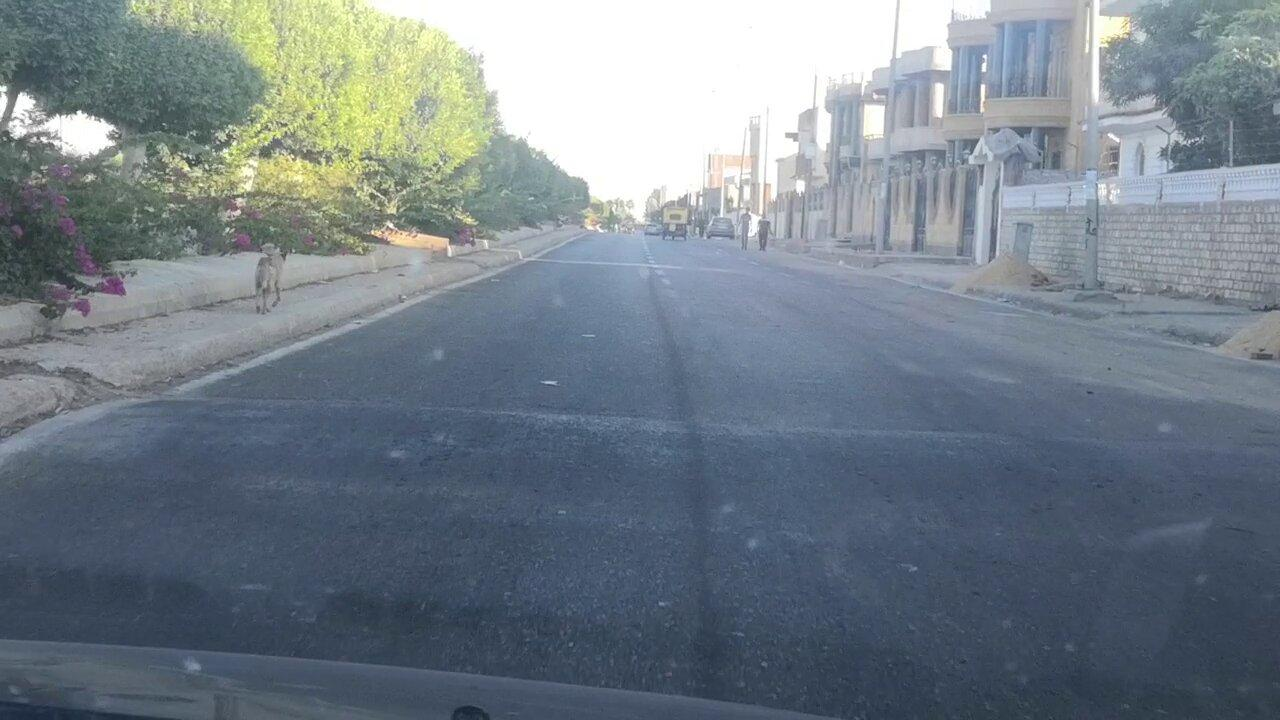Bump: (20, 394, 1277, 534)
